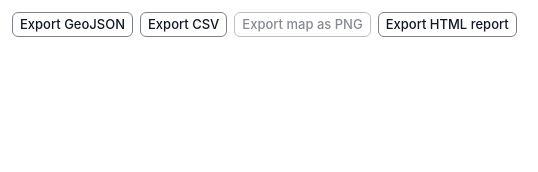
Test: ExportControls › HTML report › still exports, and says the map is missing, when the capture fails
Step 1. Click the button "Export HTML report" → (447, 24), box [378,12,517,36]
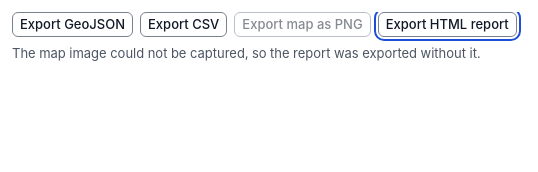
Expected: the message shows "without it", [12,44,480,60]
